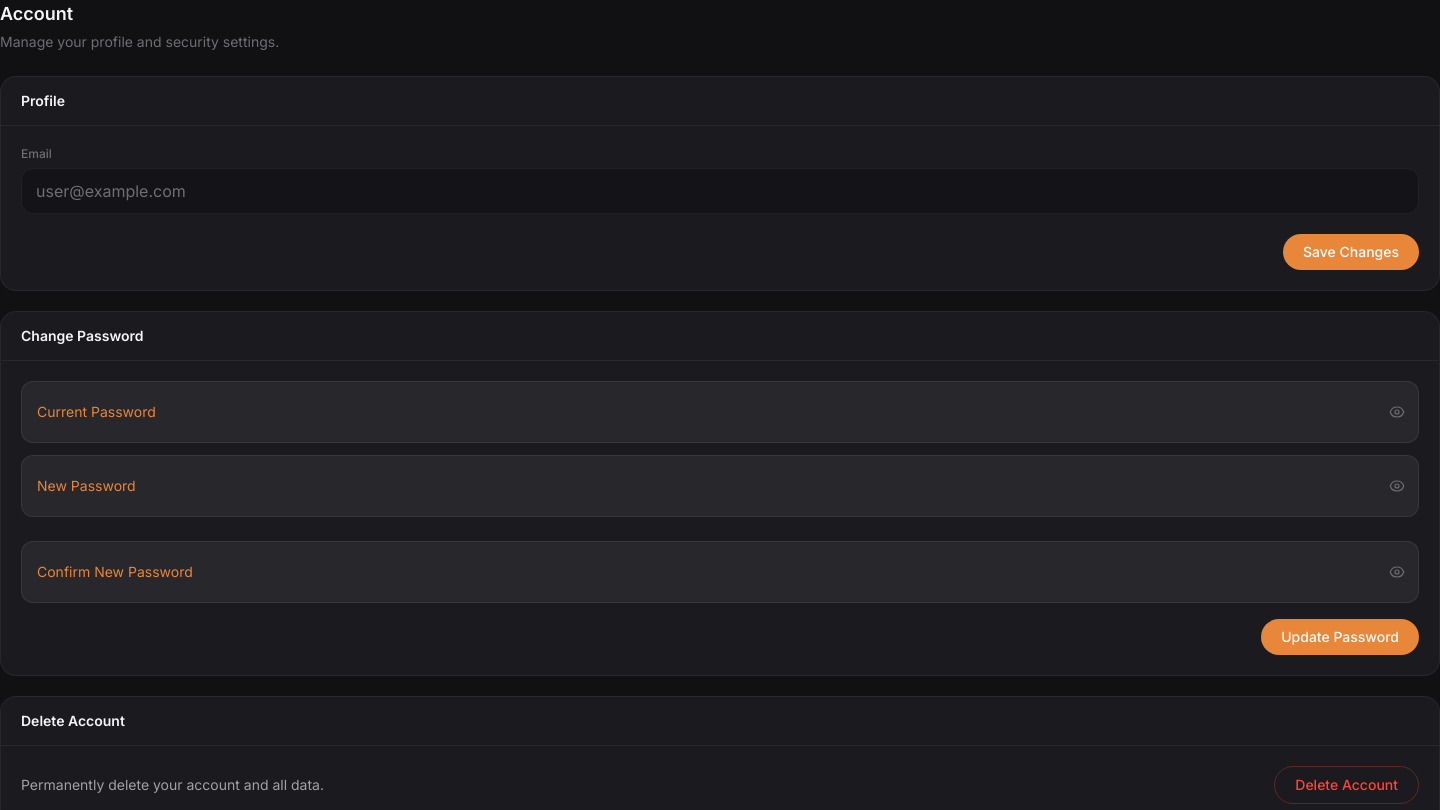
Test: AccountTab — Delete Account flow › shows delete confirmation form when Delete Account is clicked
Click the button "Delete Account". click: point(1347, 785)
box: [1274, 766, 1419, 804]
(page scrolled)
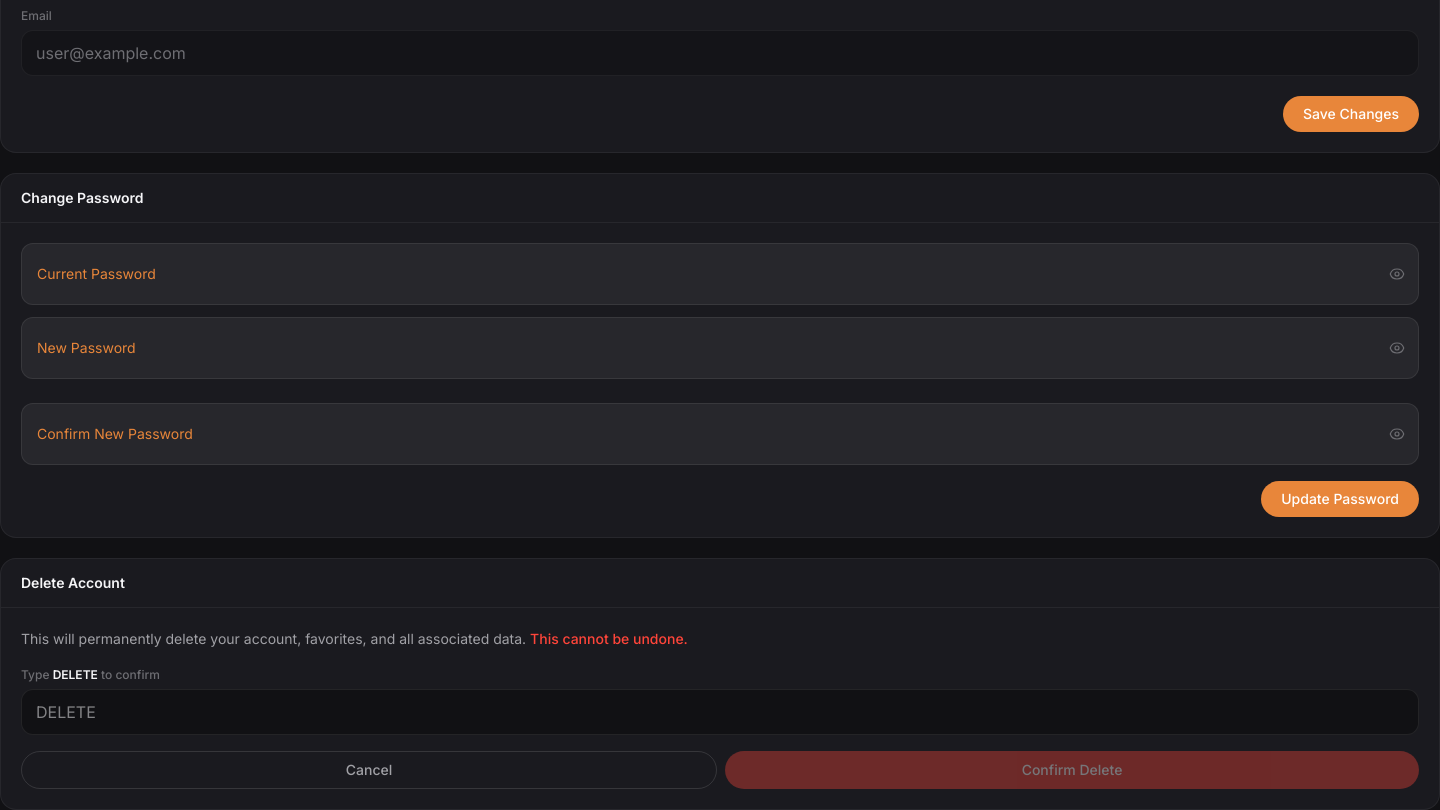
Expected: the field with placeholder "DELETE" is shown, [21, 689, 1419, 735]
